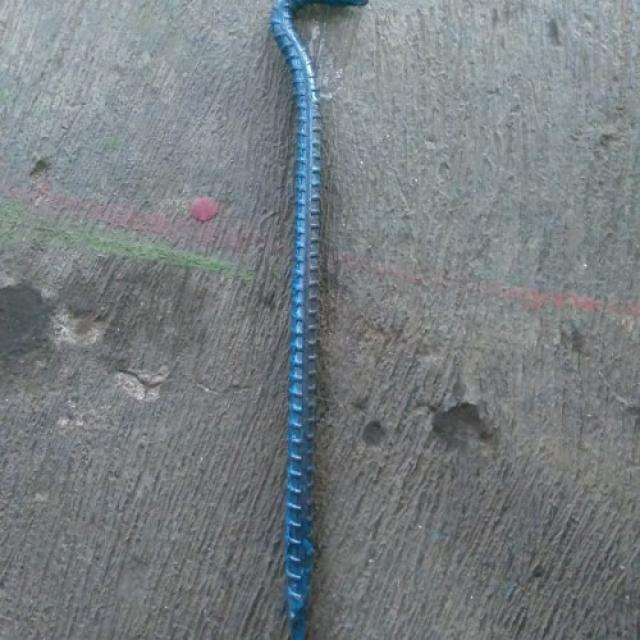Linggis: (250, 0, 387, 640)
